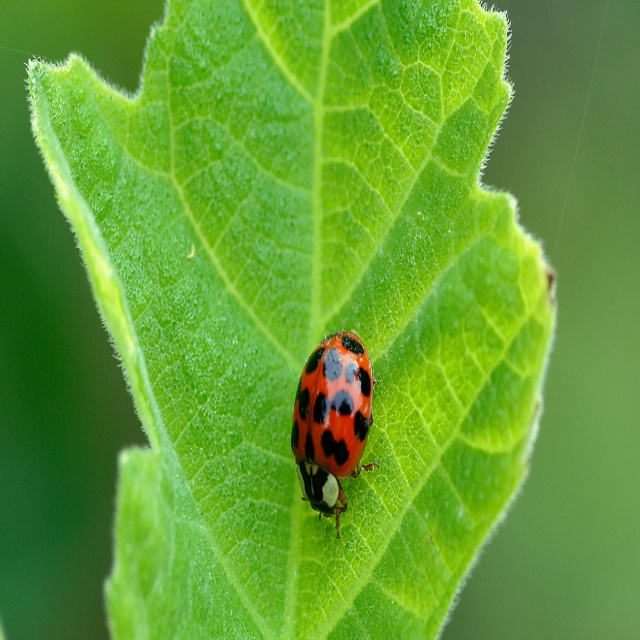Ladybug: (288, 327, 381, 535)
